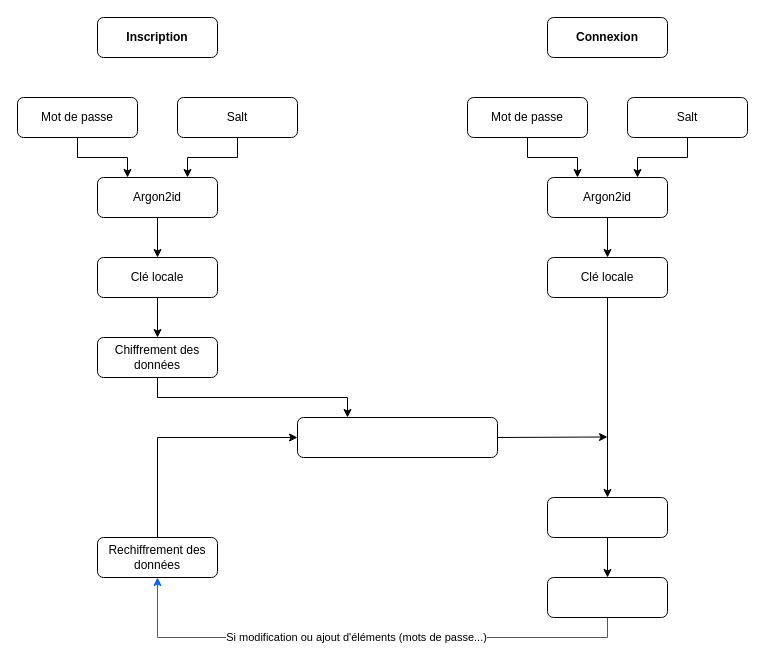
Some shapes in this 765 by 663 pixel diagram are drawn without their labels. Each missing label, with the centre of its shape:
Affichage des données: point 607,597
Déchiffrement local: point 607,517
Serveur Salt + hash + données chiffrées: point 397,437
